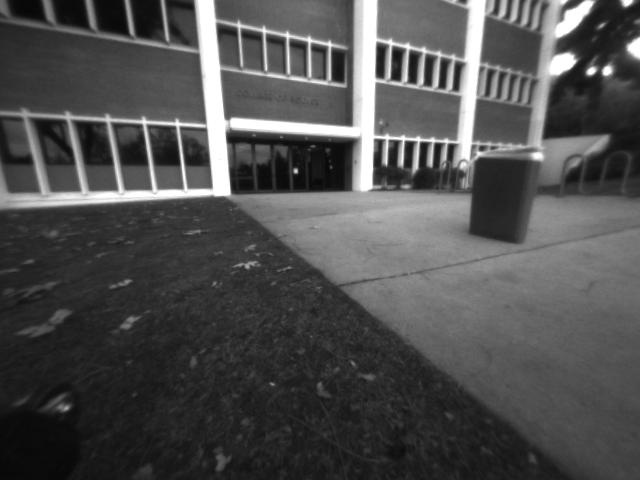trashcan_open: (462, 140, 549, 252)
